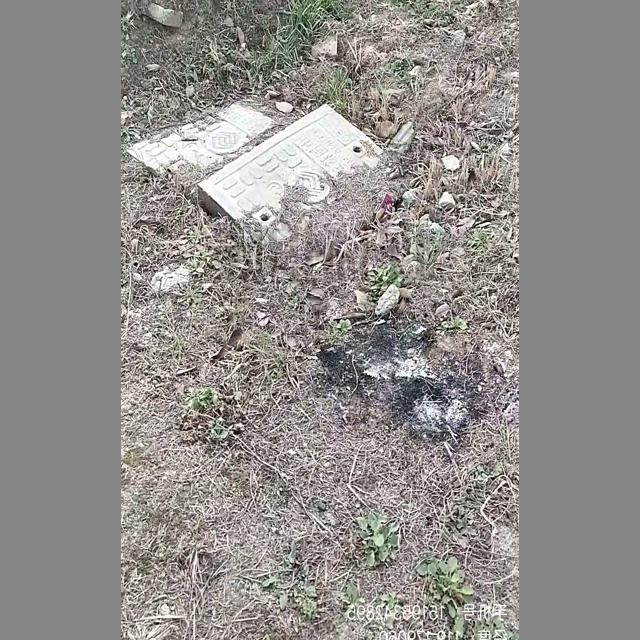uncovered: (168, 85, 434, 271)
